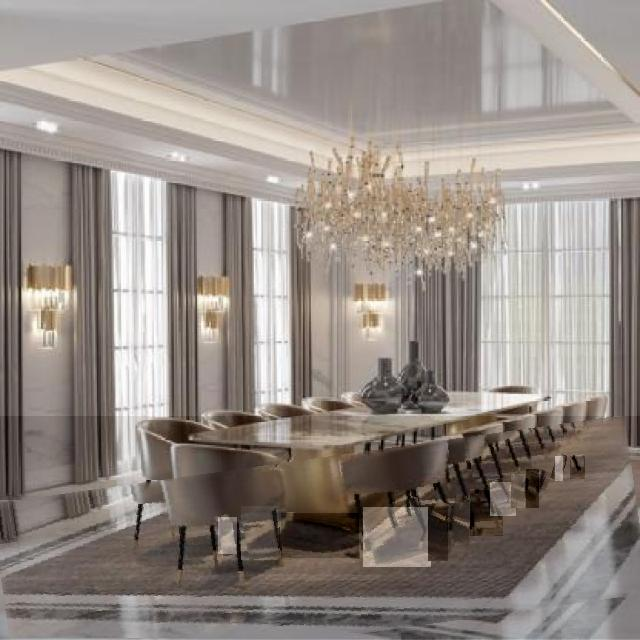floor: (0, 417, 640, 639), (364, 507, 431, 567), (282, 514, 359, 558), (241, 507, 279, 560), (471, 491, 503, 536), (429, 506, 448, 561), (491, 483, 516, 516), (454, 498, 469, 547), (218, 517, 237, 554), (527, 470, 539, 508), (512, 475, 525, 508), (575, 448, 591, 473), (586, 442, 600, 469), (570, 457, 585, 479), (539, 465, 554, 487), (555, 457, 563, 481)
